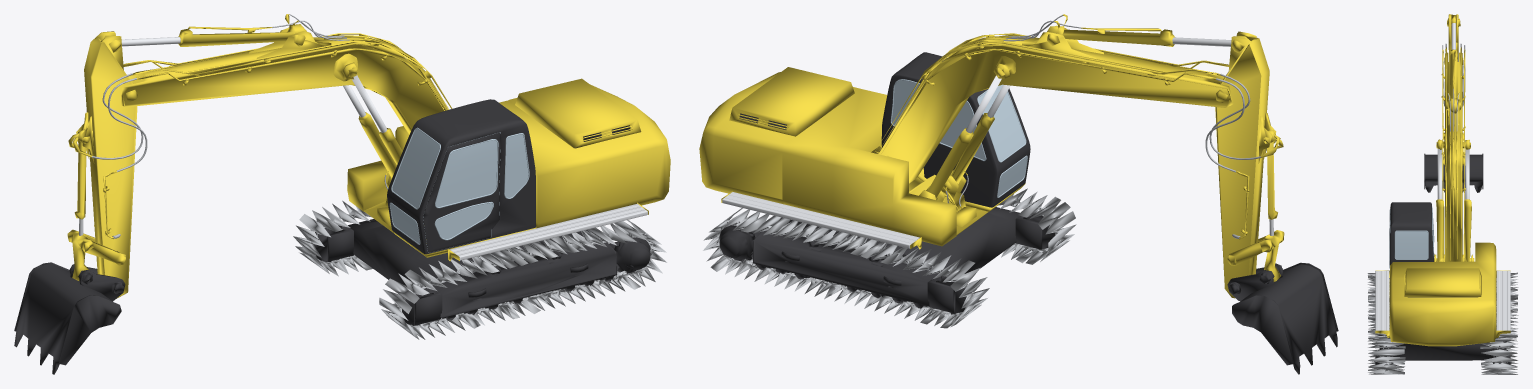
File: archmodels55-23.glb
The picture shows the model from 3 angles, left to right: view 1: azimuth 30°, elevation 25°; view 2: azimuth 150°, elevation 25°; view 3: azimuth 270°, elevation 25°; orthographic projection. The views are drawn at different scales.
Parts seen in each view (by area): view 1: Archmodels55_23_yellow, Archmodels55_23_black_metal, Archmodels55_23_tracks, Archmodels55_23_black, Archmodels55_23_glass, Archmodels55_23_chrome, Archmodels55_23_glass_seals, Archmodels55_23_pipes; view 2: Archmodels55_23_yellow, Archmodels55_23_black_metal, Archmodels55_23_tracks, Archmodels55_23_black, Archmodels55_23_chrome, Archmodels55_23_glass, Archmodels55_23_pipes, Archmodels55_23_glass_seals; view 3: Archmodels55_23_yellow, Archmodels55_23_tracks, Archmodels55_23_black_metal, Archmodels55_23_chrome, Archmodels55_23_black, Archmodels55_23_glass, Archmodels55_23_pipes, Archmodels55_23_glass_seals.
Part boxes in pixels (bbox=[...]): Archmodels55_23_yellow: bbox=[67, 14, 670, 298]; Archmodels55_23_black_metal: bbox=[14, 219, 650, 374]; Archmodels55_23_tracks: bbox=[293, 200, 666, 339]; Archmodels55_23_black: bbox=[387, 99, 630, 254]; Archmodels55_23_glass: bbox=[390, 129, 528, 243]; Archmodels55_23_chrome: bbox=[79, 37, 647, 260]; Archmodels55_23_glass_seals: bbox=[389, 127, 529, 252]; Archmodels55_23_pipes: bbox=[92, 14, 388, 238]; Archmodels55_23_yellow: bbox=[699, 14, 1284, 298]; Archmodels55_23_black_metal: bbox=[719, 207, 1338, 374]; Archmodels55_23_tracks: bbox=[703, 188, 1076, 328]; Archmodels55_23_black: bbox=[739, 52, 1030, 207]; Archmodels55_23_chrome: bbox=[722, 37, 1273, 248]; Archmodels55_23_glass: bbox=[891, 80, 1026, 196]; Archmodels55_23_pipes: bbox=[945, 15, 1266, 238]; Archmodels55_23_glass_seals: bbox=[890, 79, 1027, 197]; Archmodels55_23_yellow: bbox=[1375, 14, 1510, 346]; Archmodels55_23_tracks: bbox=[1367, 272, 1518, 374]; Archmodels55_23_black_metal: bbox=[1375, 153, 1510, 364]; Archmodels55_23_chrome: bbox=[1375, 23, 1510, 330]; Archmodels55_23_black: bbox=[1390, 202, 1477, 297]; Archmodels55_23_glass: bbox=[1390, 214, 1433, 259]; Archmodels55_23_pipes: bbox=[1442, 43, 1465, 131]; Archmodels55_23_glass_seals: bbox=[1389, 206, 1434, 268].
Bounding box in the file's own units: 9.23 × 4.69 × 3.09.
